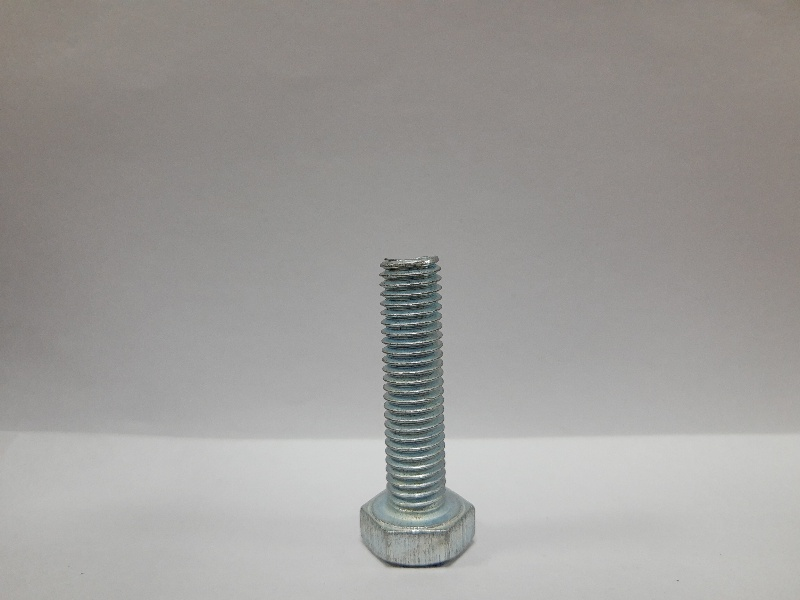pf: (355, 251, 487, 570)
